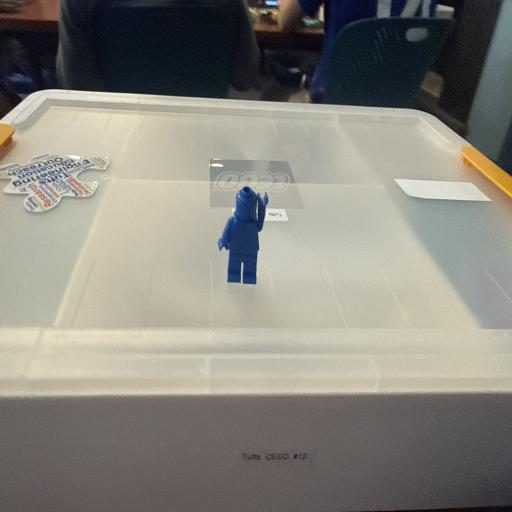Minifig: (218, 186, 268, 284)
